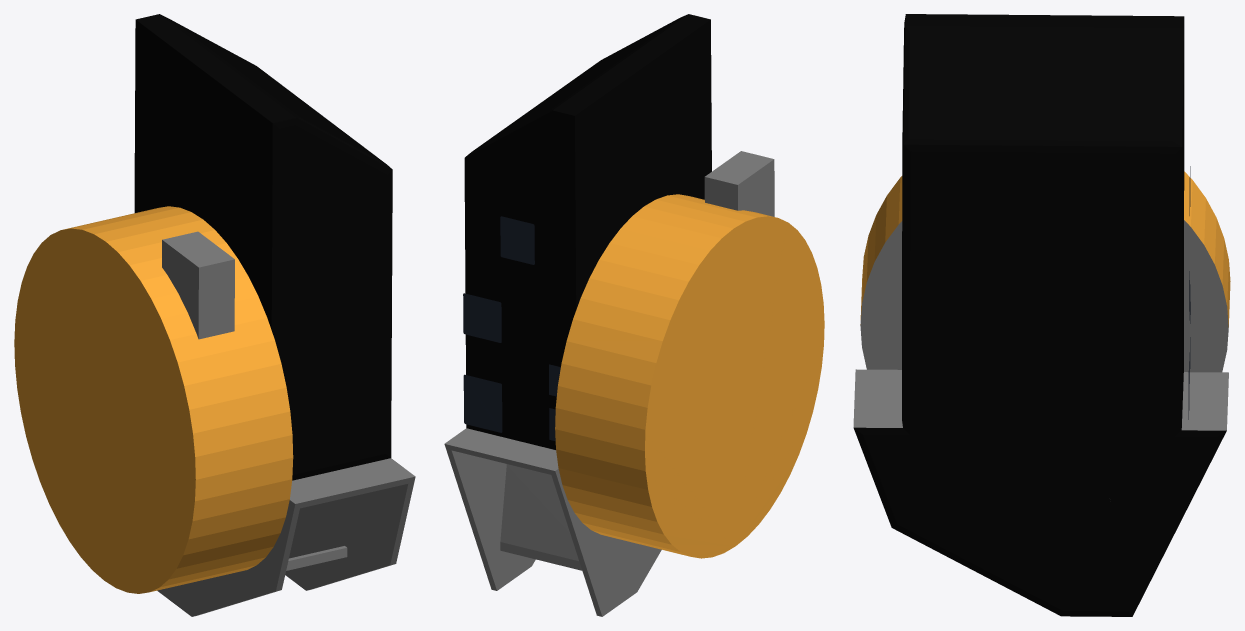
The model's file is ISIM.fbx.
3 renders of one model, left to right at view 1: azimuth 30°, elevation 25°; view 2: azimuth 150°, elevation 25°; view 3: azimuth 270°, elevation 25°, orthographic. The views are drawn at different scales.
Visible parts, largest first — view 1: default; view 2: default; view 3: default.
Boxes of the visible parts, x1,y1,x2,y2 form: default: (14, 14, 415, 616); default: (444, 14, 824, 616); default: (853, 14, 1230, 616).
Size of the model in its own units: 0.1496 by 0.3543 by 0.2219.
